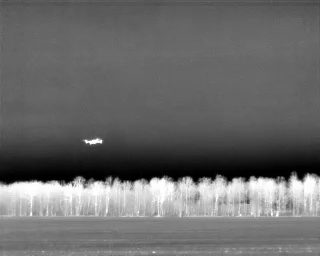DRONE: (79, 132, 108, 151)
